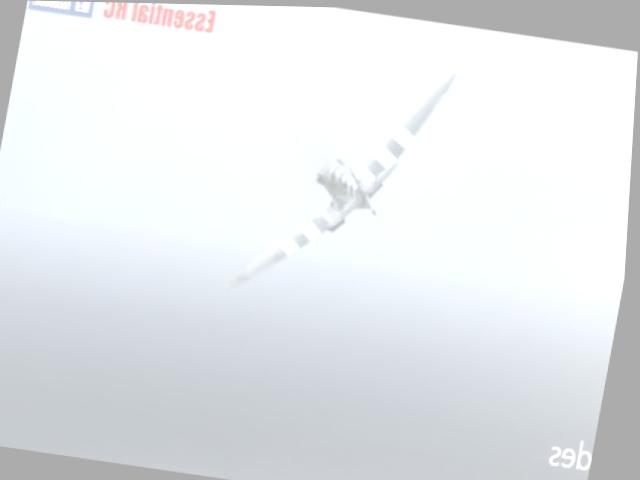uav: (222, 34, 465, 323)
